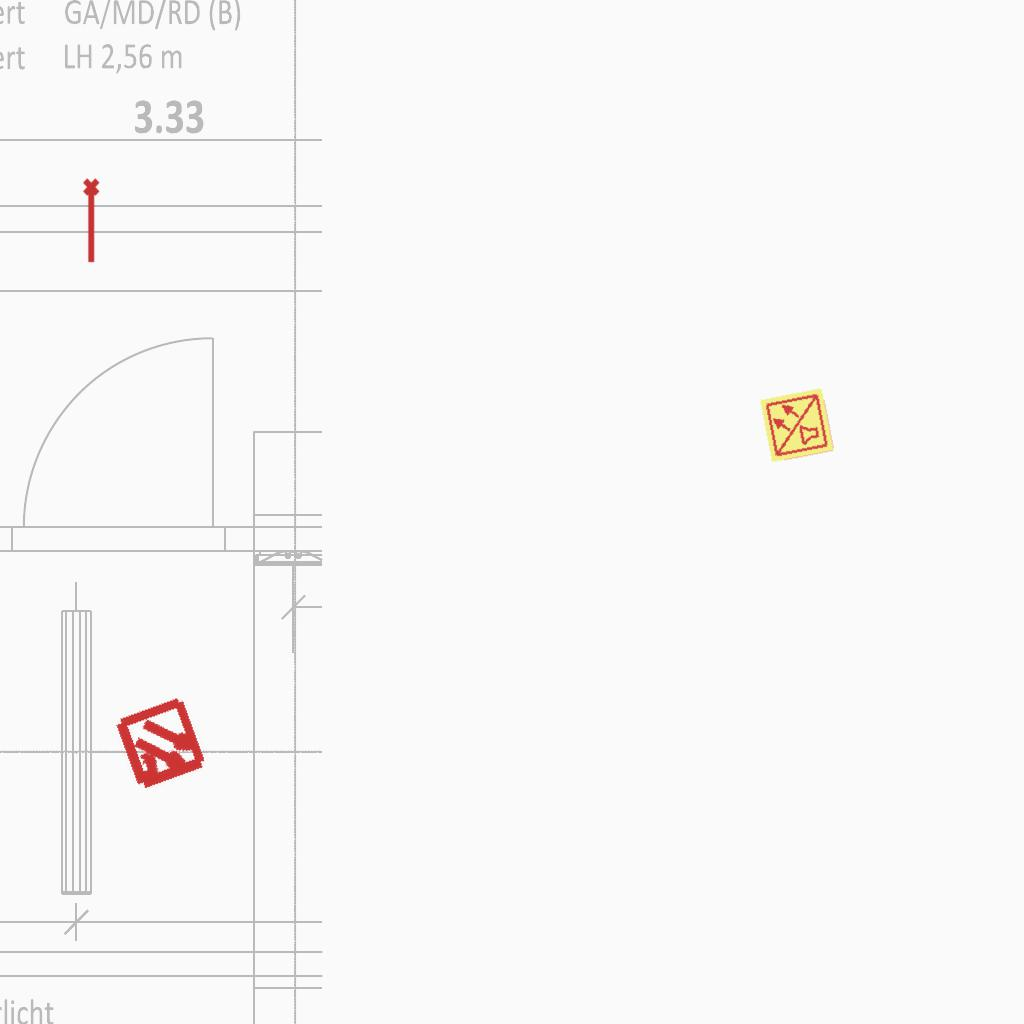ASR_Ansaugoeffnung: (81, 177, 104, 265)
OKW_Multisensormelder_(Kombination_optischer_Rauch-Kahlenmonoxid_Waerme-Melder): (758, 386, 836, 464)
OT_Multisensormelder_(Kombination_RMO_WMD): (89, 673, 234, 818)
